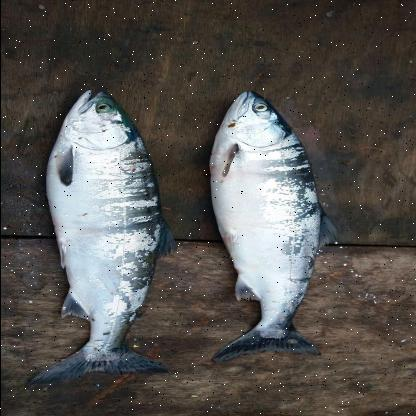fish: (27, 91, 181, 387), (199, 90, 341, 361)
